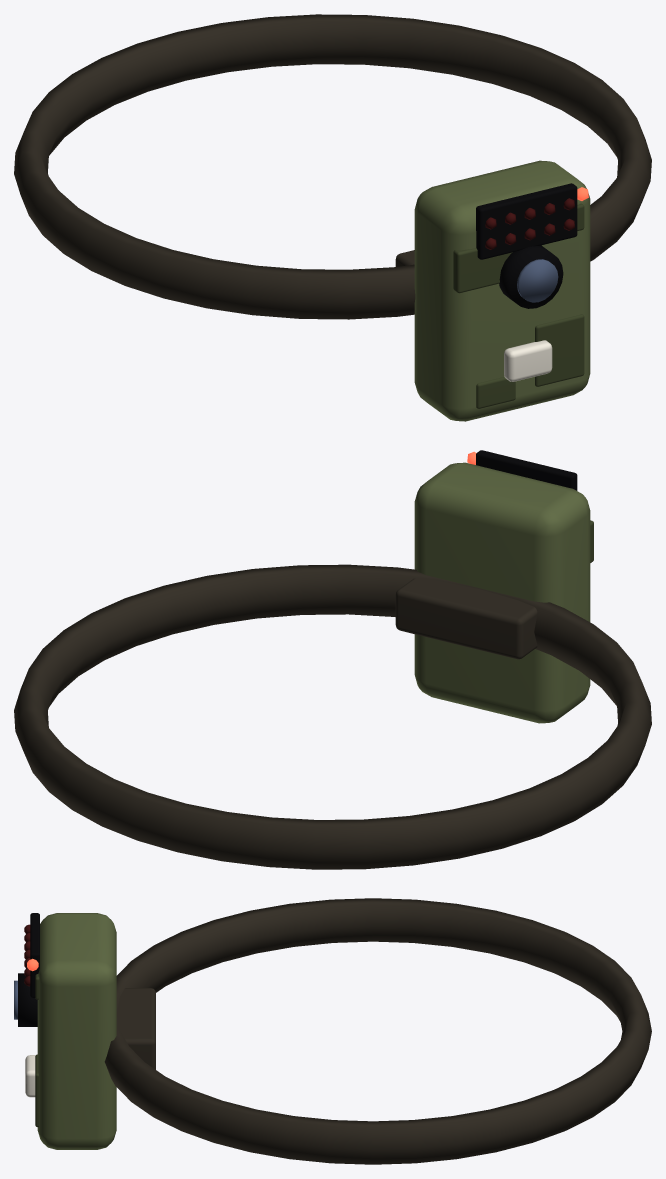
Rendered from trailcam.glb.
The picture shows the model from 3 angles, top to bottom: view 1: azimuth 30°, elevation 25°; view 2: azimuth 150°, elevation 25°; view 3: azimuth 270°, elevation 25°; orthographic projection. The views are drawn at different scales.
Visible parts, largest first — view 1: tc_strap, tc_body, tc_irpanel, tc_blot.001, tc_blot, tc_lens_barrel, tc_pir, tc_lens, tc_blot.003; view 2: tc_strap, tc_body, tc_back, tc_irpanel; view 3: tc_strap, tc_body, tc_back, tc_lens_barrel, tc_irpanel, tc_pir.
Part boxes in pixels (x1=…): tc_strap: x1=14, y1=14, x2=651, y2=319; tc_body: x1=414, y1=160, x2=590, y2=421; tc_irpanel: x1=476, y1=183, x2=577, y2=259; tc_blot.001: x1=535, y1=314, x2=584, y2=386; tc_blot: x1=453, y1=248, x2=512, y2=293; tc_lens_barrel: x1=499, y1=245, x2=563, y2=308; tc_pir: x1=504, y1=340, x2=552, y2=381; tc_lens: x1=517, y1=259, x2=558, y2=302; tc_blot.003: x1=476, y1=377, x2=515, y2=408; tc_strap: x1=14, y1=564, x2=651, y2=869; tc_body: x1=414, y1=462, x2=590, y2=723; tc_back: x1=395, y1=578, x2=537, y2=659; tc_irpanel: x1=476, y1=450, x2=577, y2=490; tc_strap: x1=104, y1=898, x2=651, y2=1164; tc_body: x1=37, y1=913, x2=116, y2=1149; tc_back: x1=117, y1=988, x2=155, y2=1069; tc_lens_barrel: x1=18, y1=973, x2=37, y2=1026; tc_irpanel: x1=30, y1=913, x2=39, y2=997; tc_pir: x1=25, y1=1055, x2=35, y2=1097.
Size of the model in its own units: 1.13 by 0.43 by 1.29.
